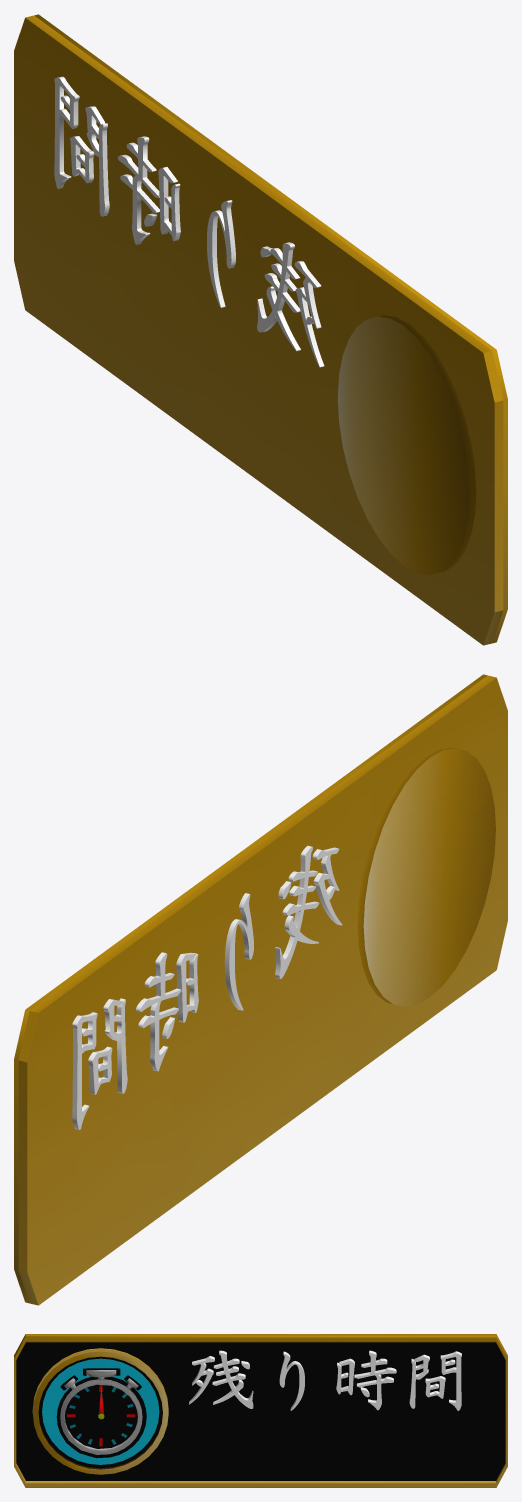
3 renders of one model, top to bottom at view 1: azimuth 30°, elevation 25°; view 2: azimuth 150°, elevation 25°; view 3: azimuth 270°, elevation 25°, orthographic. The views are drawn at different scales.
Parts seen in each view (by area): view 1: Cube.003, 円柱.012, テキスト.010; view 2: Cube.003, 円柱.012, テキスト.010; view 3: Cube.003, 円柱.012, テキスト.010.
Boxes of the visible parts, left/top/right/bottom form: Cube.003: left=14, top=14, right=507, bottom=645; 円柱.012: left=337, top=315, right=476, bottom=574; テキスト.010: left=54, top=76, right=324, bottom=367; Cube.003: left=14, top=674, right=507, bottom=1305; 円柱.012: left=357, top=747, right=495, bottom=1006; テキスト.010: left=72, top=845, right=342, bottom=1129; Cube.003: left=14, top=1334, right=507, bottom=1487; 円柱.012: left=32, top=1348, right=168, bottom=1474; テキスト.010: left=189, top=1350, right=461, bottom=1410.
Bounding box in the file's own units: 0.2995 × 2.89 × 8.6.
3 materials, 3 textured.
